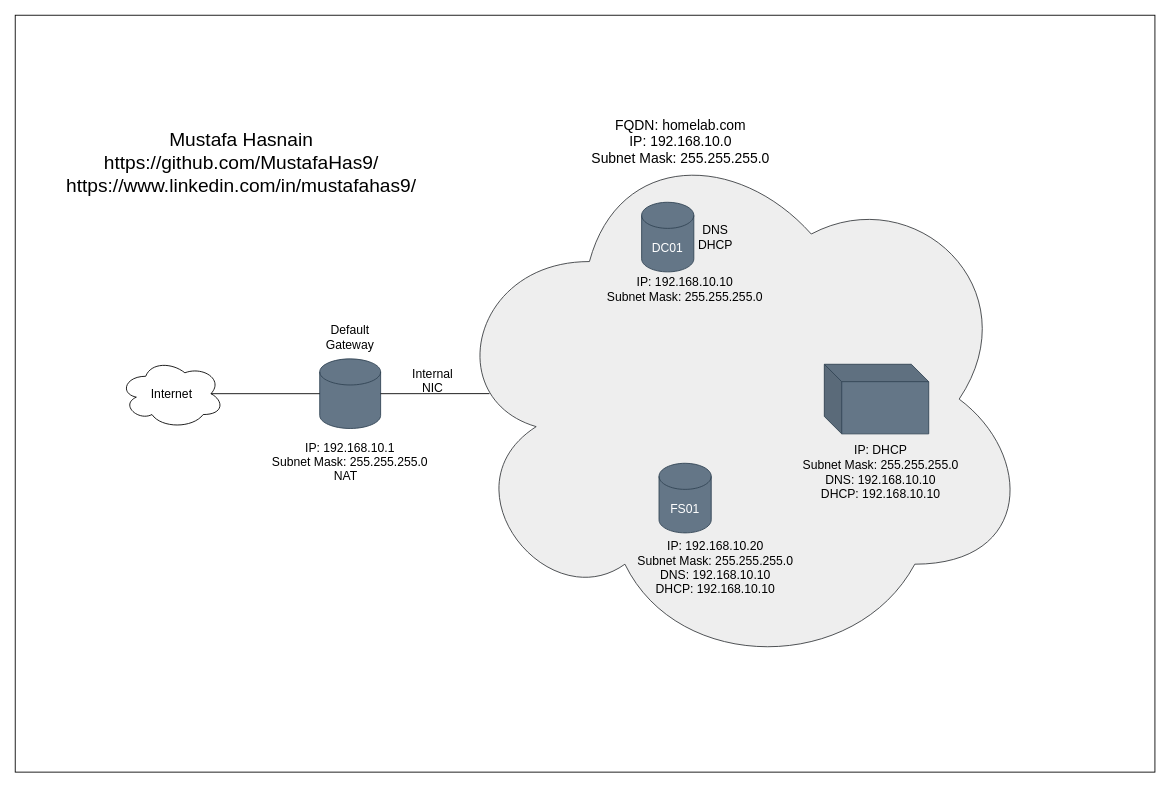
The diagram is 1170 pixels wide and 787 high, and some of its shapes have lost their labels. The box of each missing label's shape, as (x1, y1, x2, y2) in pixels:
CLIENT01: (823, 363, 929, 434)
RRAS01: (319, 358, 381, 428)
